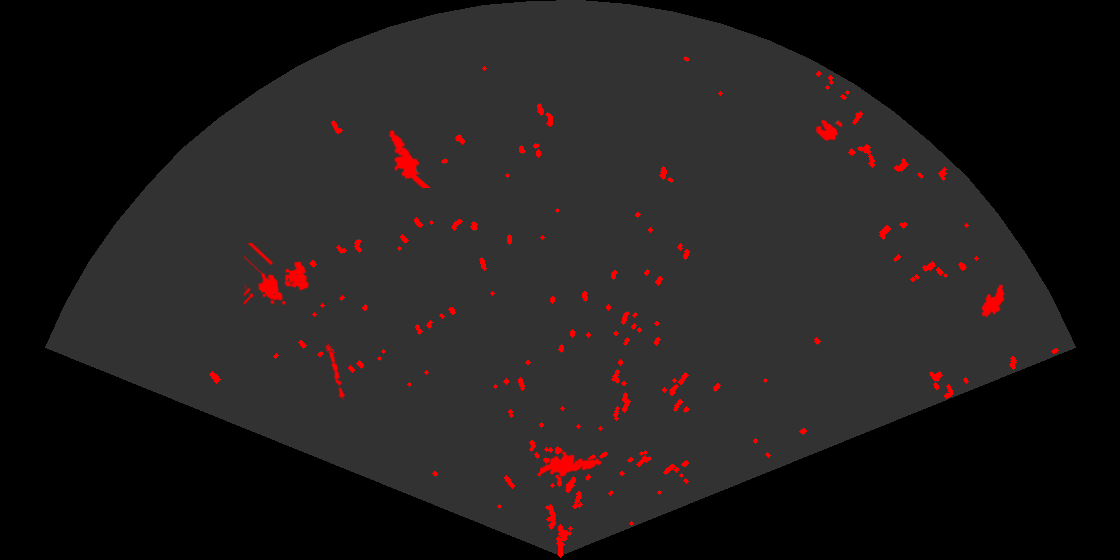AUV: (980, 282, 1006, 319)
ball: (814, 118, 844, 143)
cage: (244, 243, 310, 307)
chain: (324, 341, 347, 400)
frogman: (387, 128, 432, 188), (540, 450, 604, 479)
